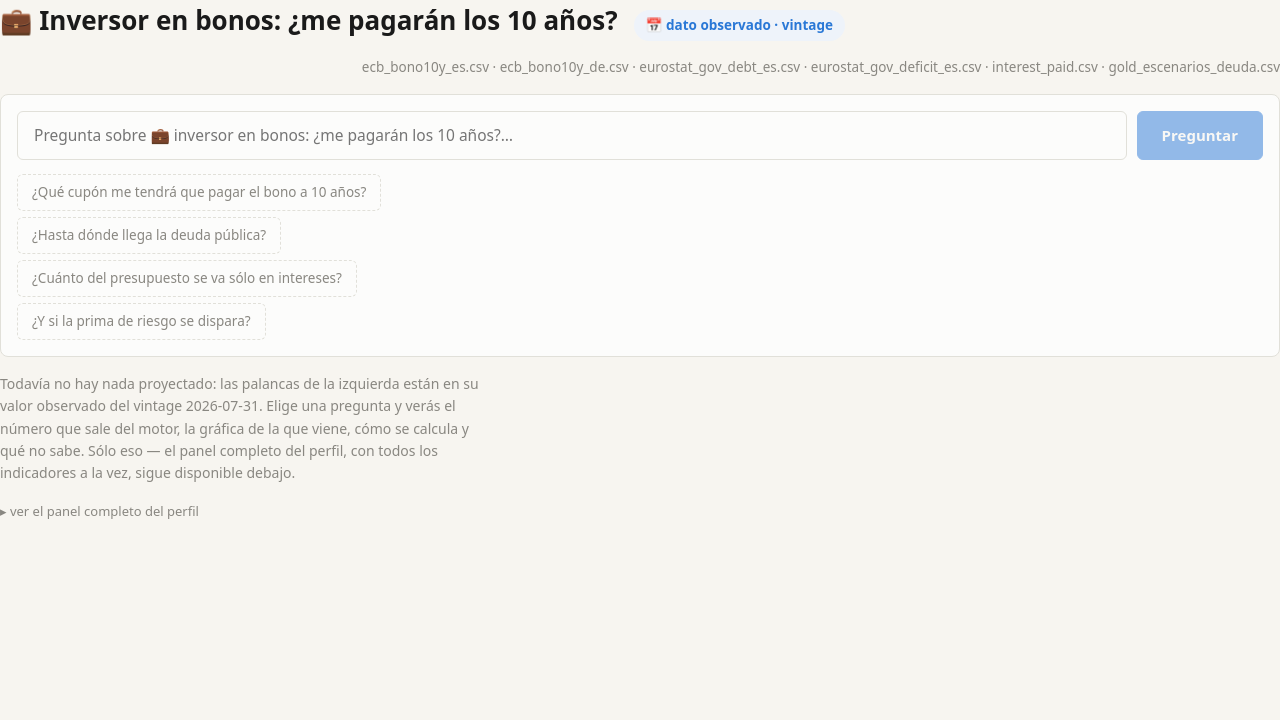
Test: Persona — generic renderer over the API card › persona 01 shows its API copy verbatim
Expected: the heading "💼 Inversor en bonos: ¿me pagarán los 10 años?" is shown, [0, 0, 618, 40]
Click the button with class "show-all": (99, 511) [0, 501, 199, 521]
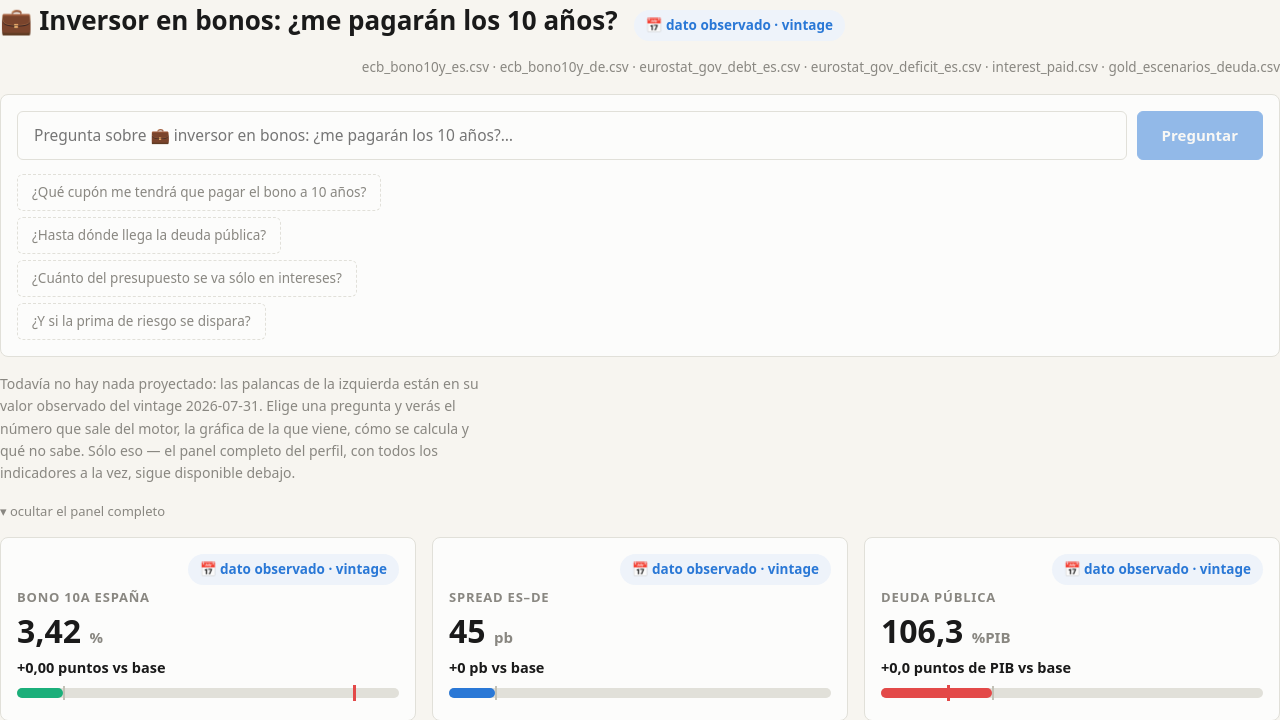
Result: the text "Bono 10A España" is shown at [17, 588, 150, 606]
